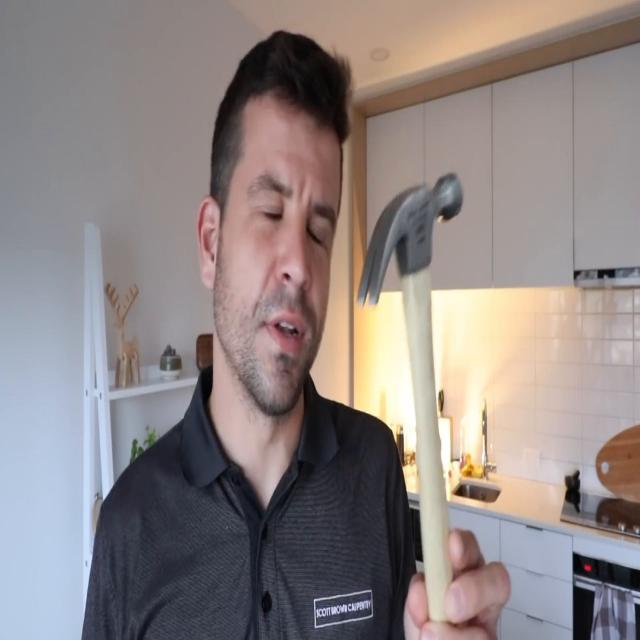hammer: (362, 172, 463, 622)
